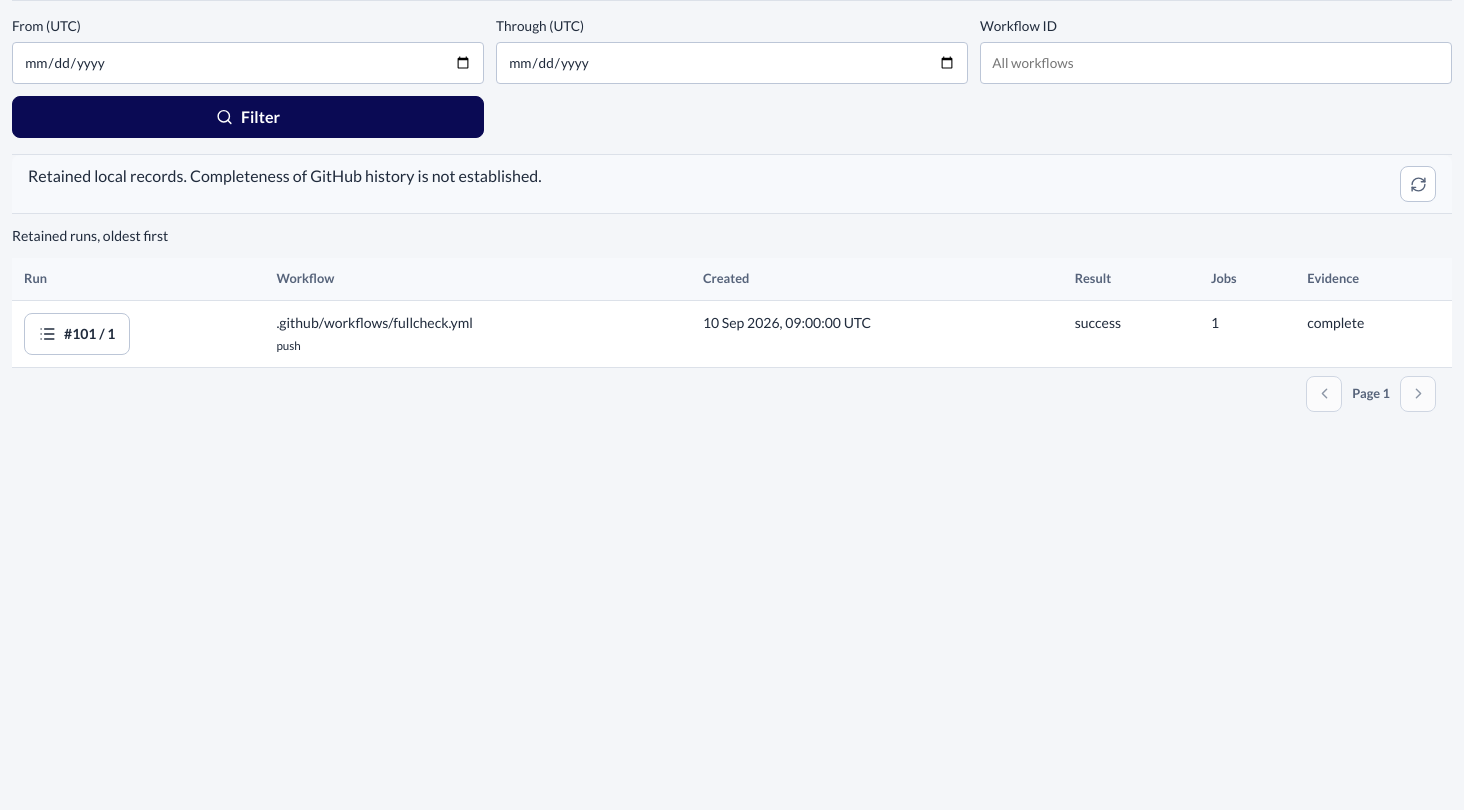
Test: pending retention is sent once and unmount suppresses late forbidden
The width and height of the screenshot is (1464, 810).
Click the button "#101 / 1". click: [77, 334]
box: [24,313,130,355]
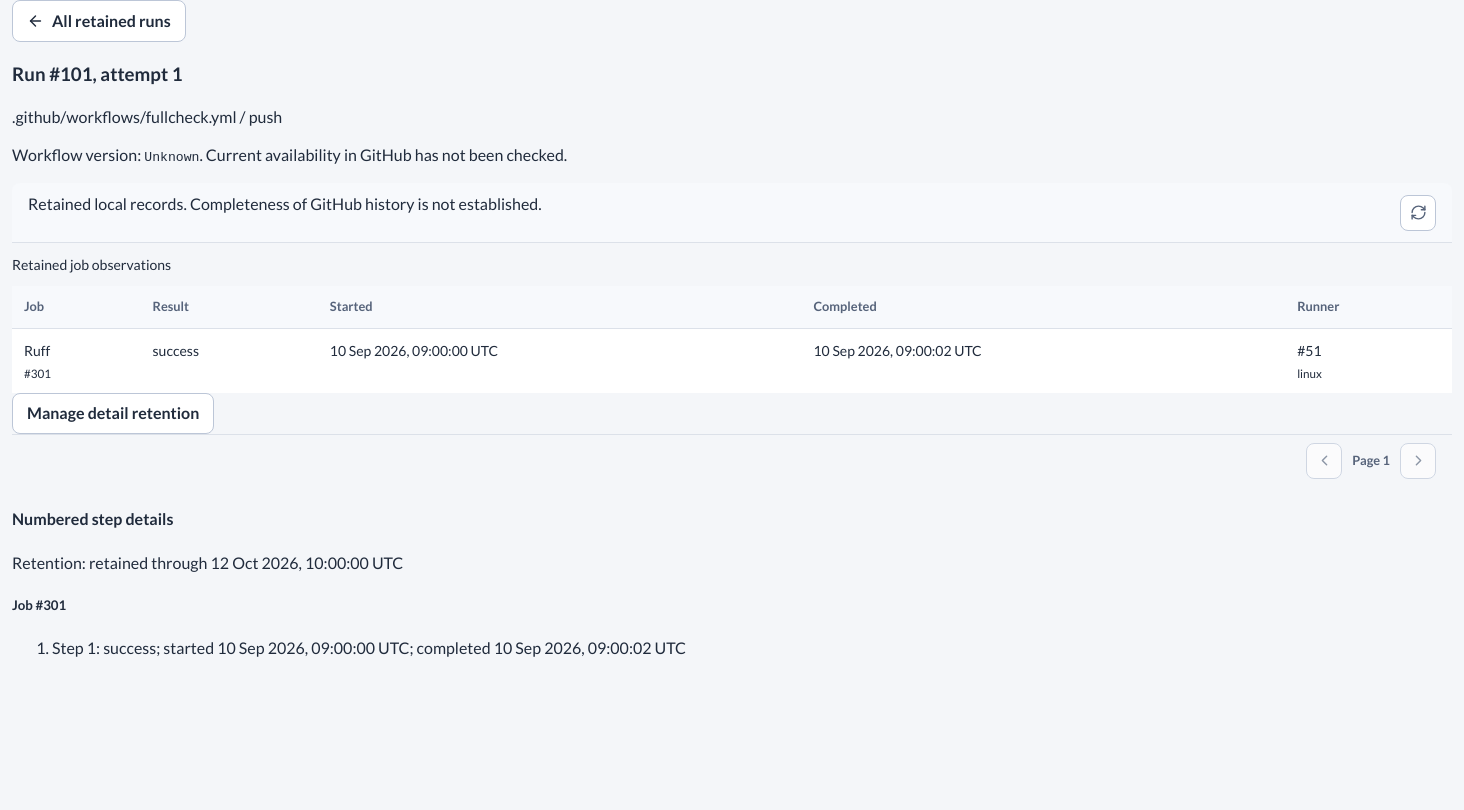
Expected: the list item "Step 1: success" is shown, [52,638,686,657]
Click the button "Manage detail retention". click: [113, 413]
box: [12,393,214,434]
(page scrolled)
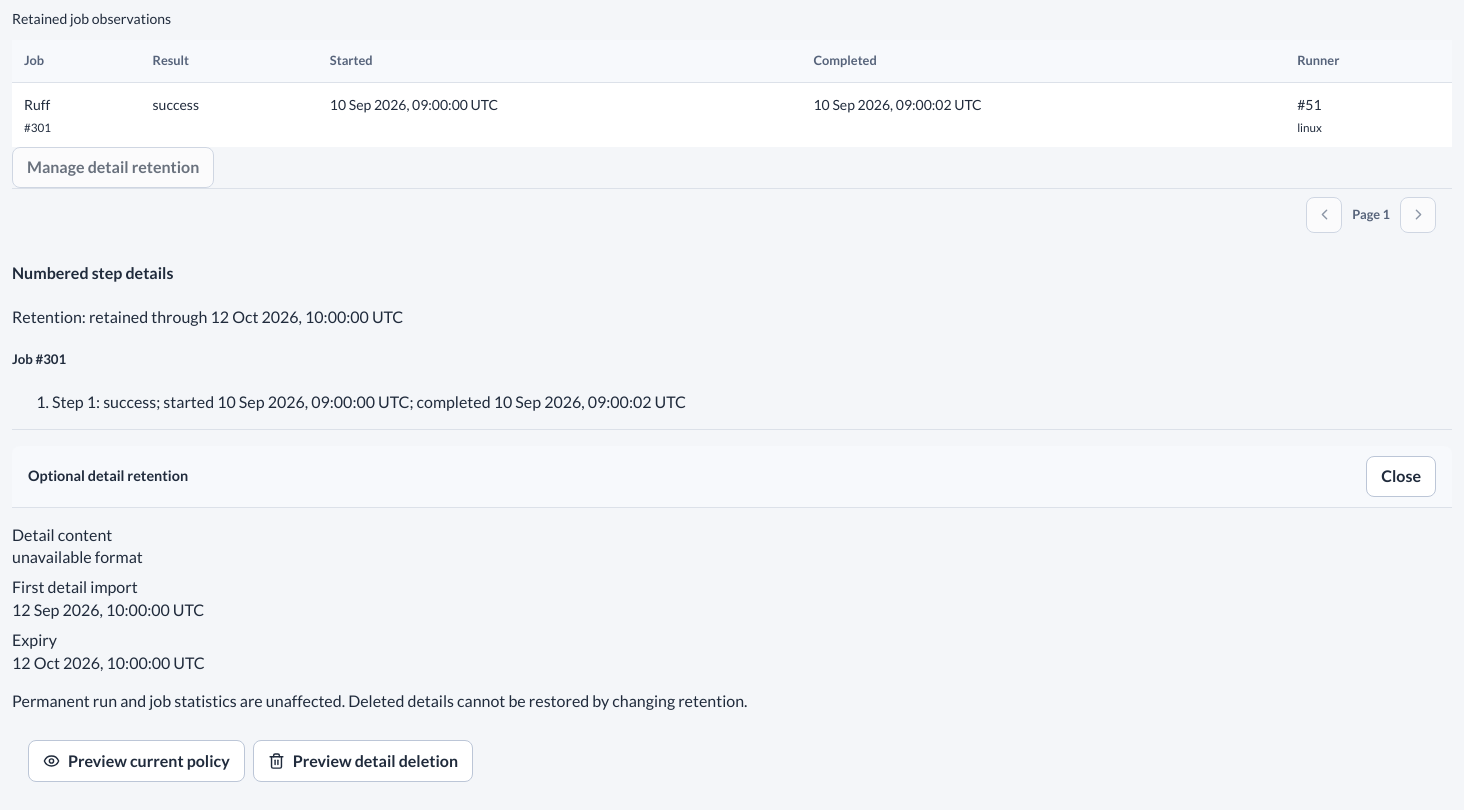
Click the button "Preview detail deletion". click: [363, 761]
box: [253,740,473,782]
(page scrolled)
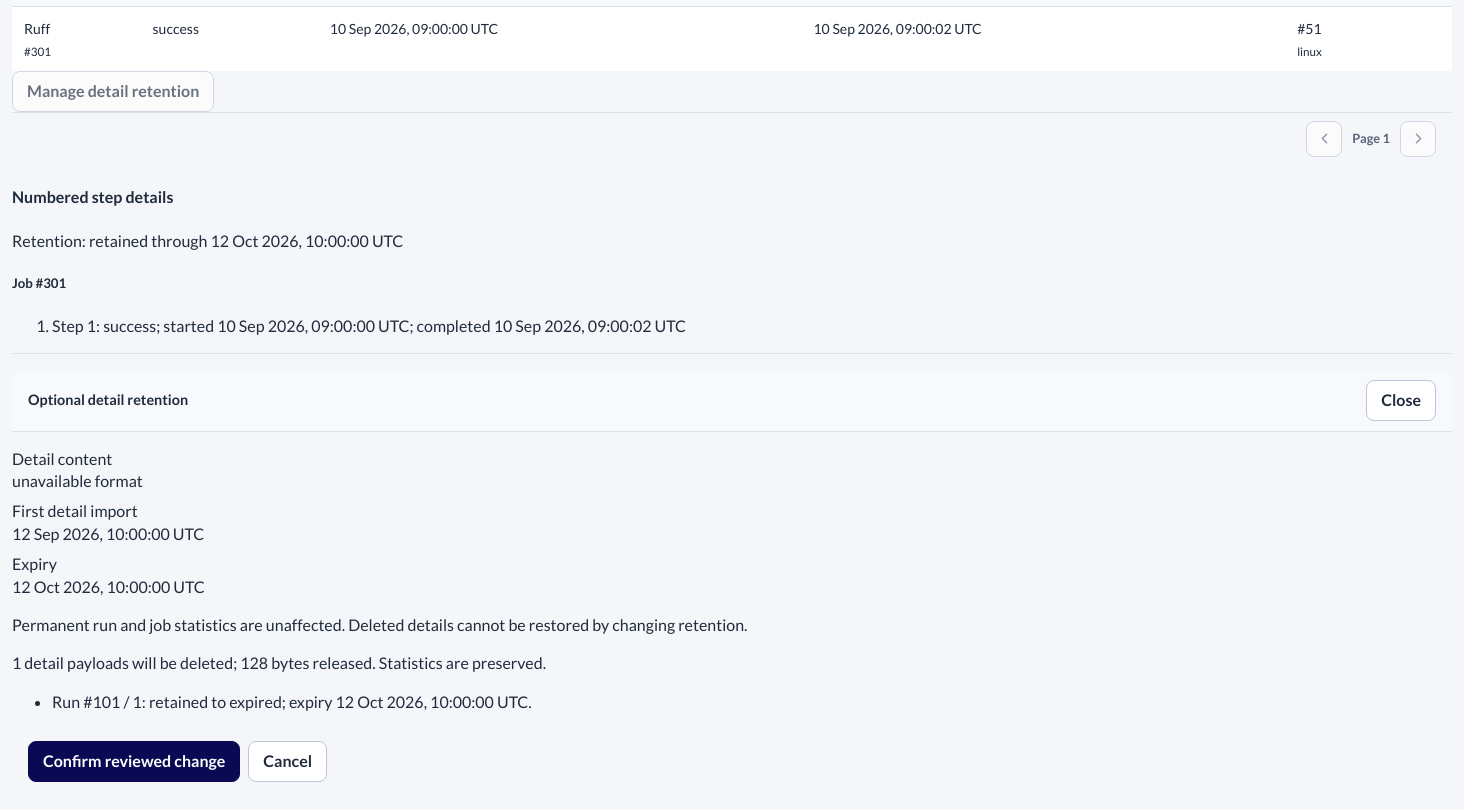
Expected: the button "Confirm reviewed change" is shown
Double-click the button "Confirm reviewed change" at [134, 761], box [28,741,240,782]
(page scrolled)
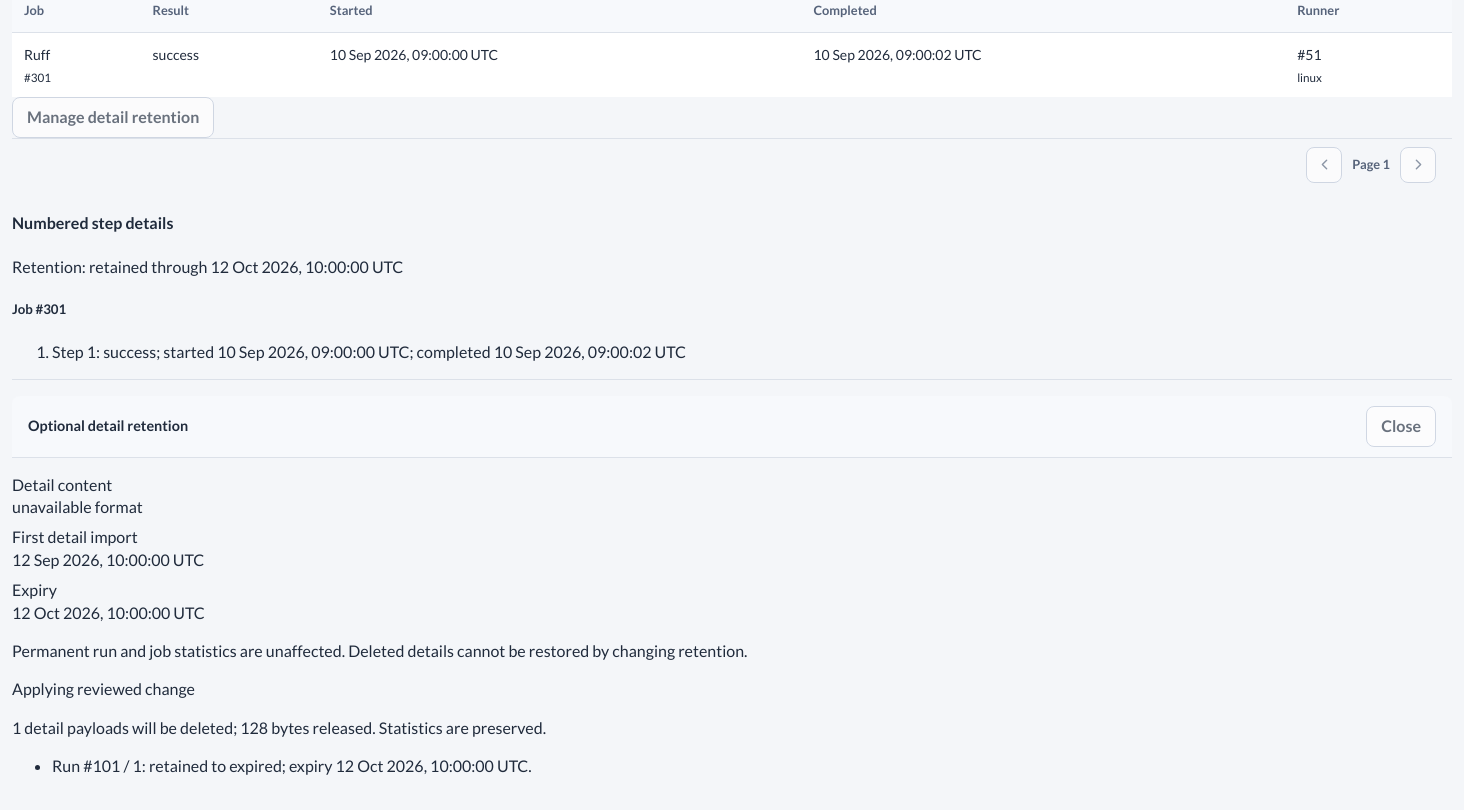
Expected: the text "Applying reviewed change" is shown, [12,679,195,698]
Expected: the button "Close" is disabled, [1366,406,1436,447]
